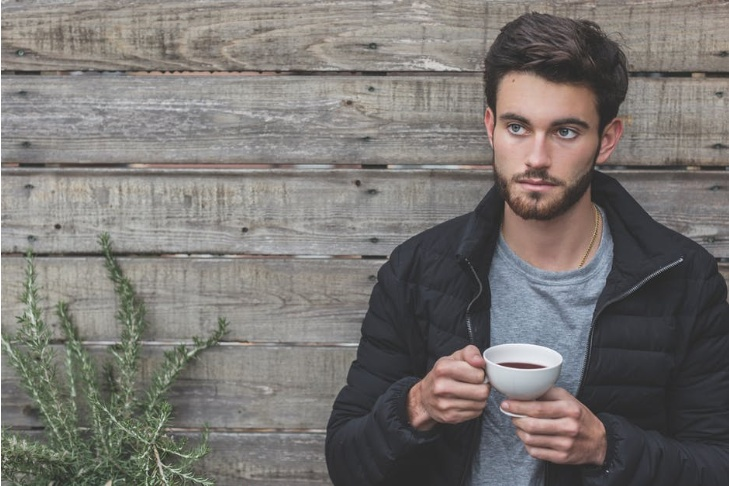face: (494, 76, 594, 217)
